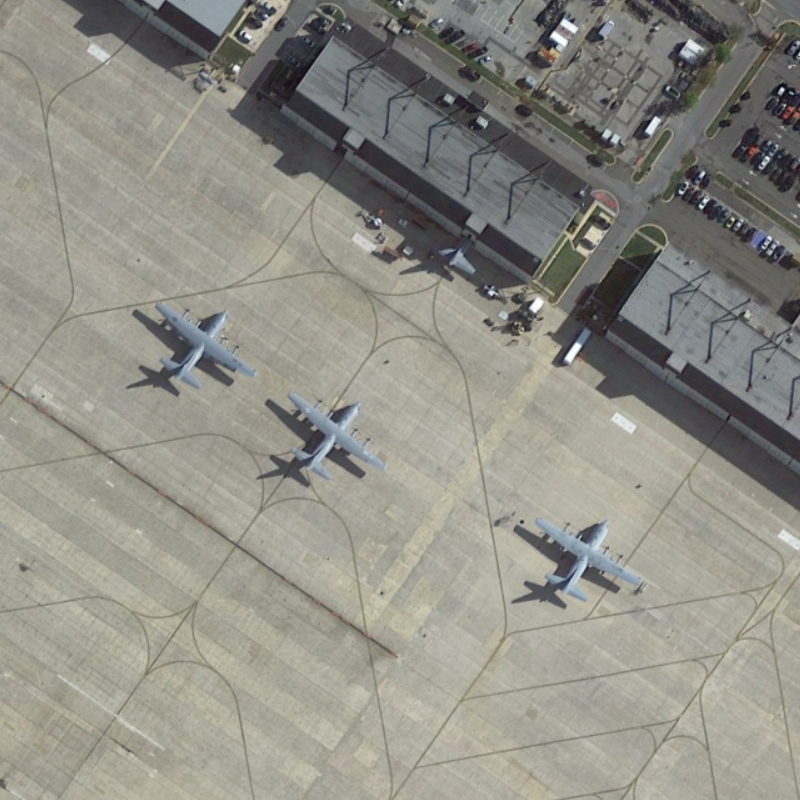A2: (523, 505, 645, 609), (140, 289, 259, 395), (276, 382, 386, 485)
